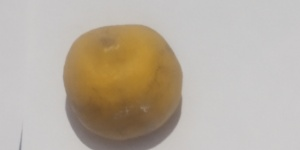BAD: (61, 24, 184, 139)
